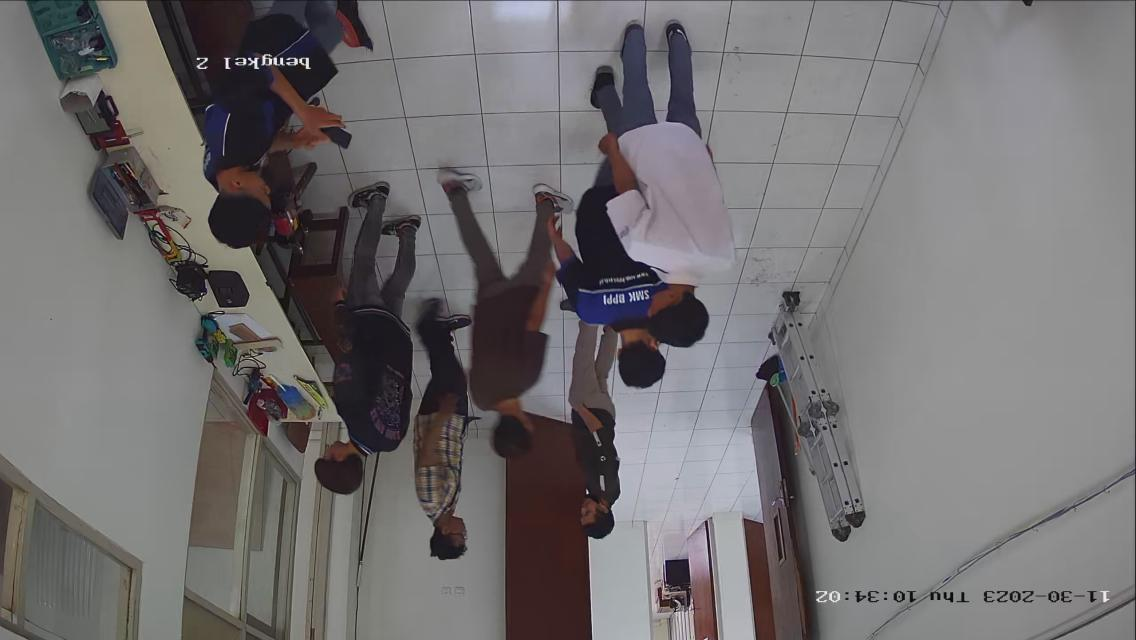Person-Crowd: (297, 183, 430, 518), (438, 130, 553, 467), (568, 69, 673, 414), (618, 17, 708, 366), (572, 250, 634, 546), (424, 322, 485, 572)
